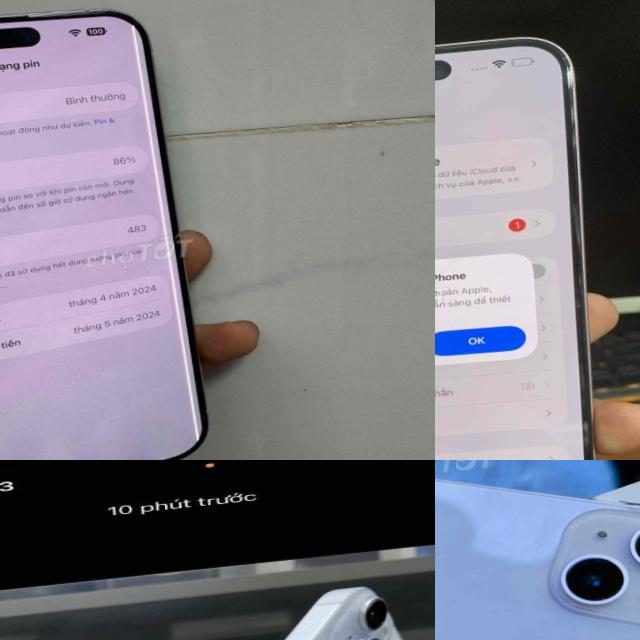gen_14: (435, 480, 640, 640)
gen_15: (0, 0, 227, 460), (435, 8, 621, 460), (18, 571, 435, 640)
screen_defect: (120, 12, 216, 456)
